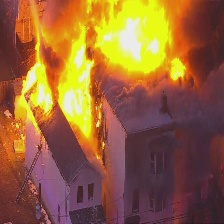fire: (24, 34, 95, 131), (99, 3, 173, 69)
smoke: (110, 77, 224, 173), (181, 1, 224, 58)
